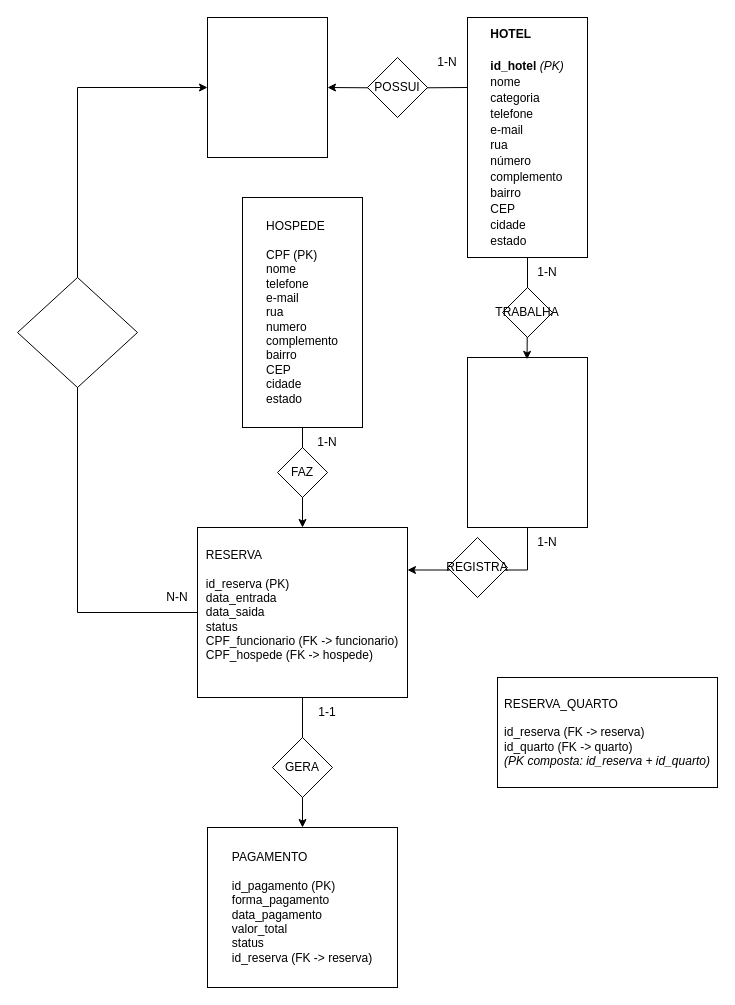
The diagram is 735 pixels wide and 1005 high, and some of its shapes have lost their labels. Here are the shapes that lost their labels. From the top down, the box of each, then its label:
(206, 16, 328, 158): QUARTO id_quarto (pk) numero_leitos tipo preco_diaria status id_hotel
(16, 276, 138, 388): RESERVA_QUARTO
(466, 356, 588, 528): FUNCIONARIO CPF (PK) nome telefone e-mail login senha id_hotel (FK)
